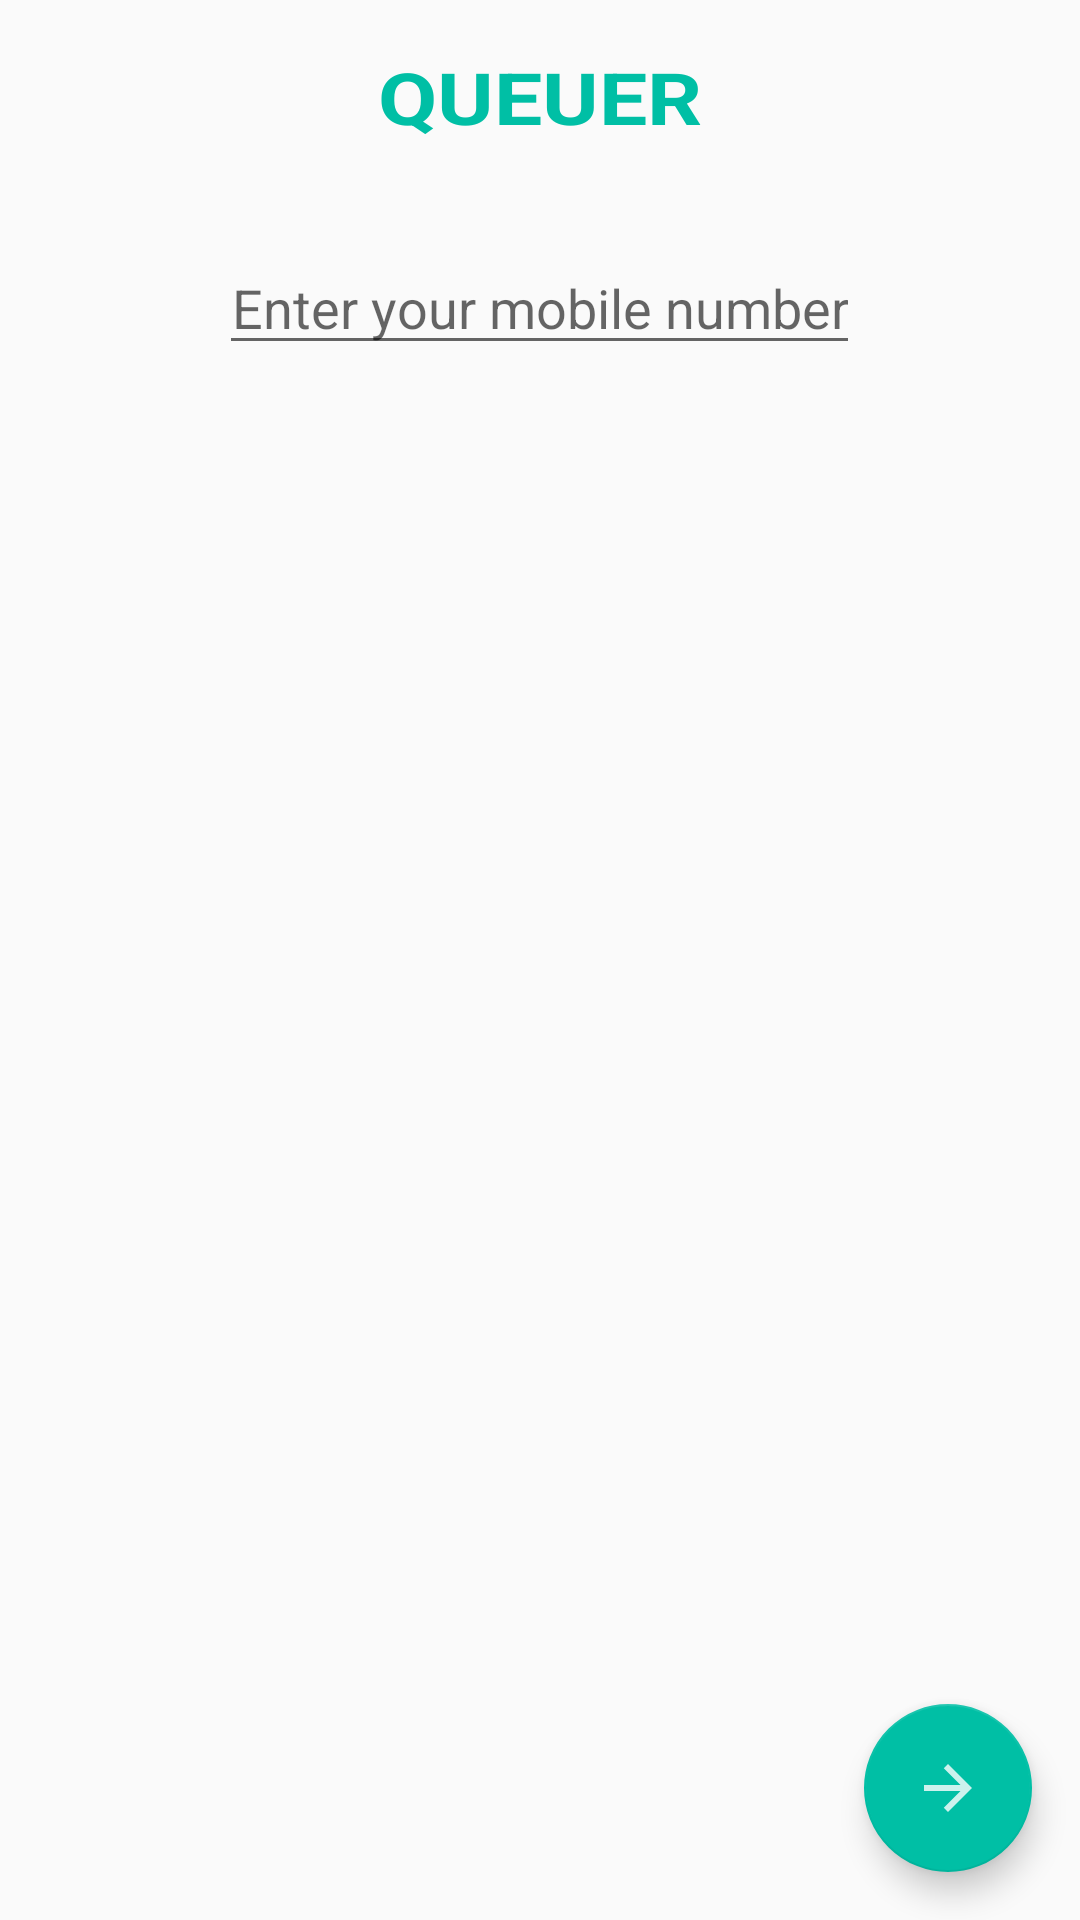

Where to tap for icons on this 1080*1920 app screen, as (x=x, y=y):
login next: (x=948, y=1788)
